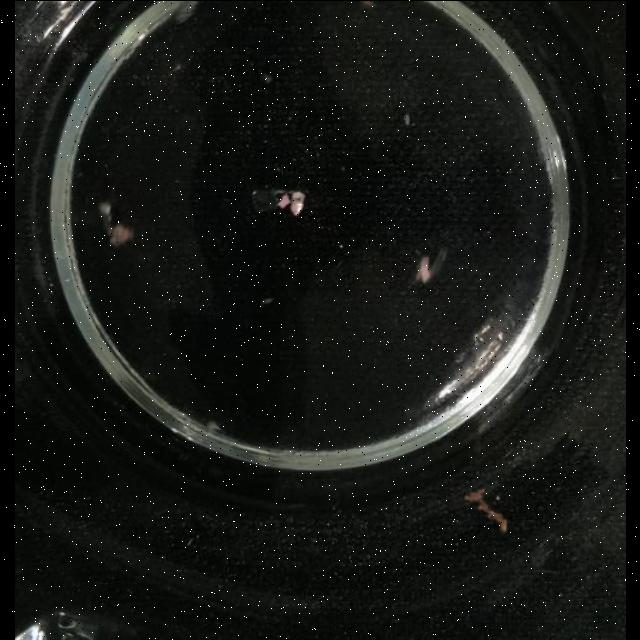Fibre: (412, 246, 446, 284)
Fragment: (464, 489, 514, 536), (98, 201, 134, 245), (276, 188, 304, 214), (352, 1, 372, 8)
microbeads: (260, 71, 272, 83), (402, 113, 410, 125)
